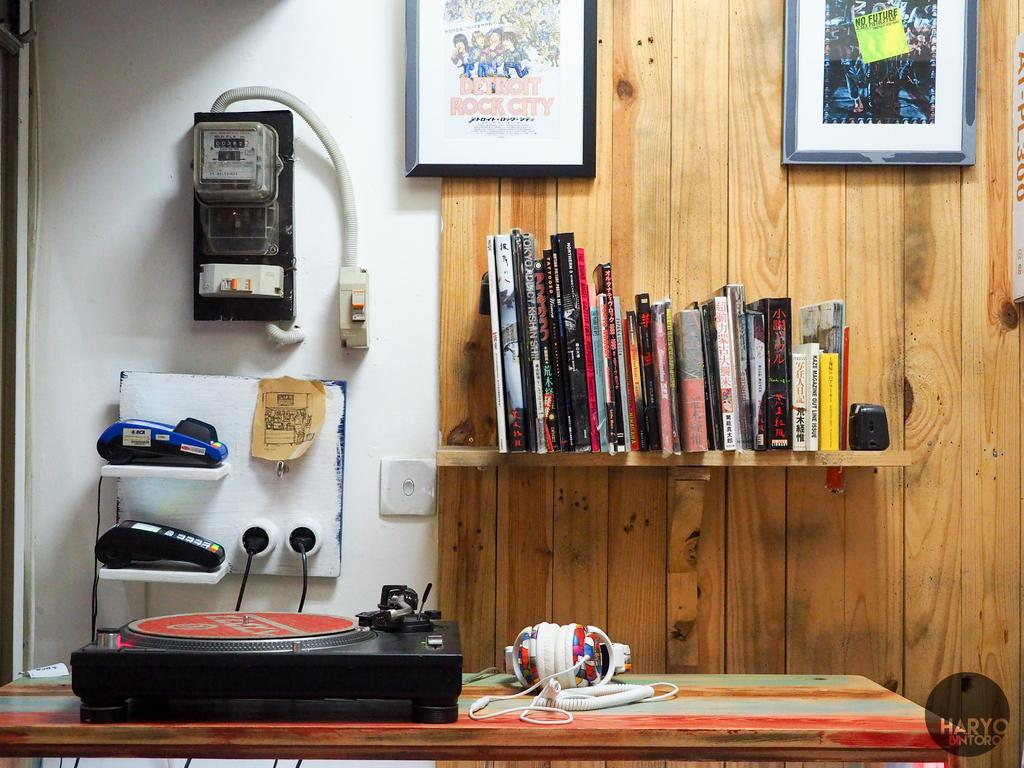Computer-keyboard: (69, 610, 464, 724)
